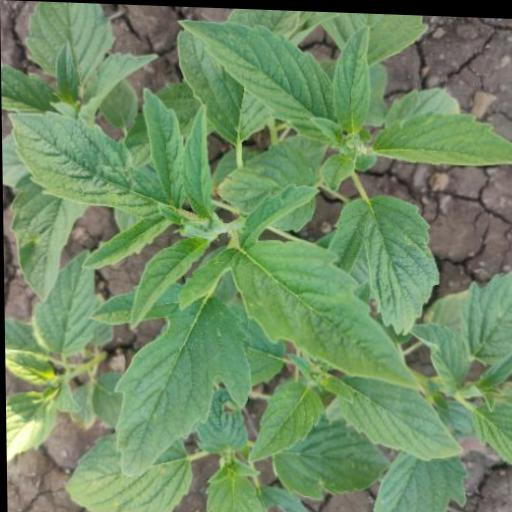crop: (10, 30, 482, 494)
